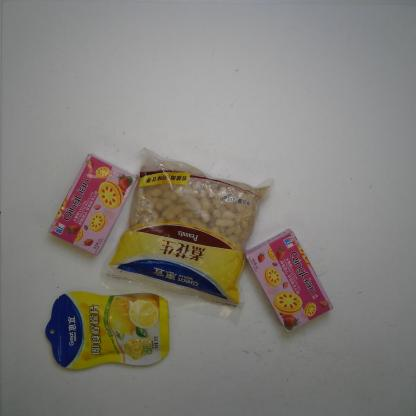Dessert: (244, 226, 335, 335), (46, 152, 139, 257)
Dried Food: (98, 147, 276, 327)
Dried Fruit: (44, 290, 172, 371)
